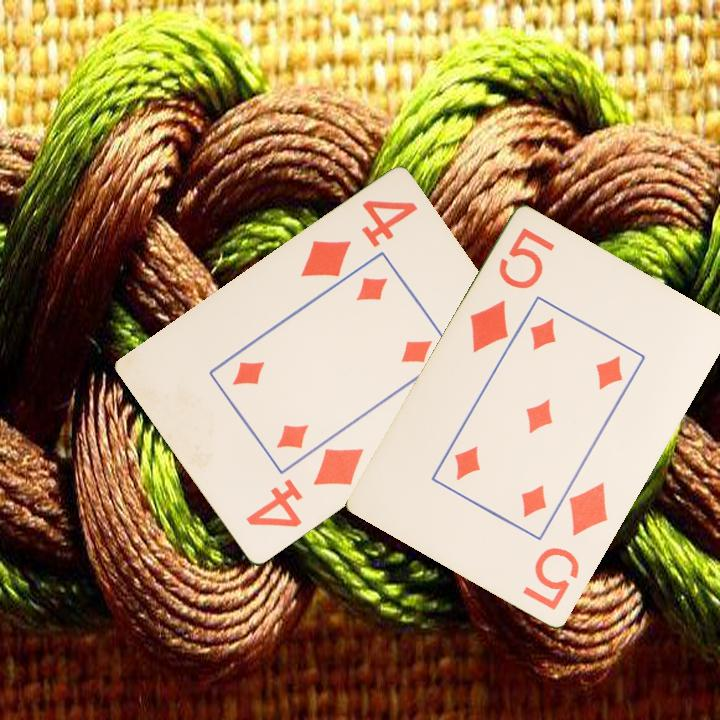4d: (242, 445, 367, 531), (297, 197, 421, 281)
5d: (519, 479, 612, 614), (466, 224, 558, 357)
